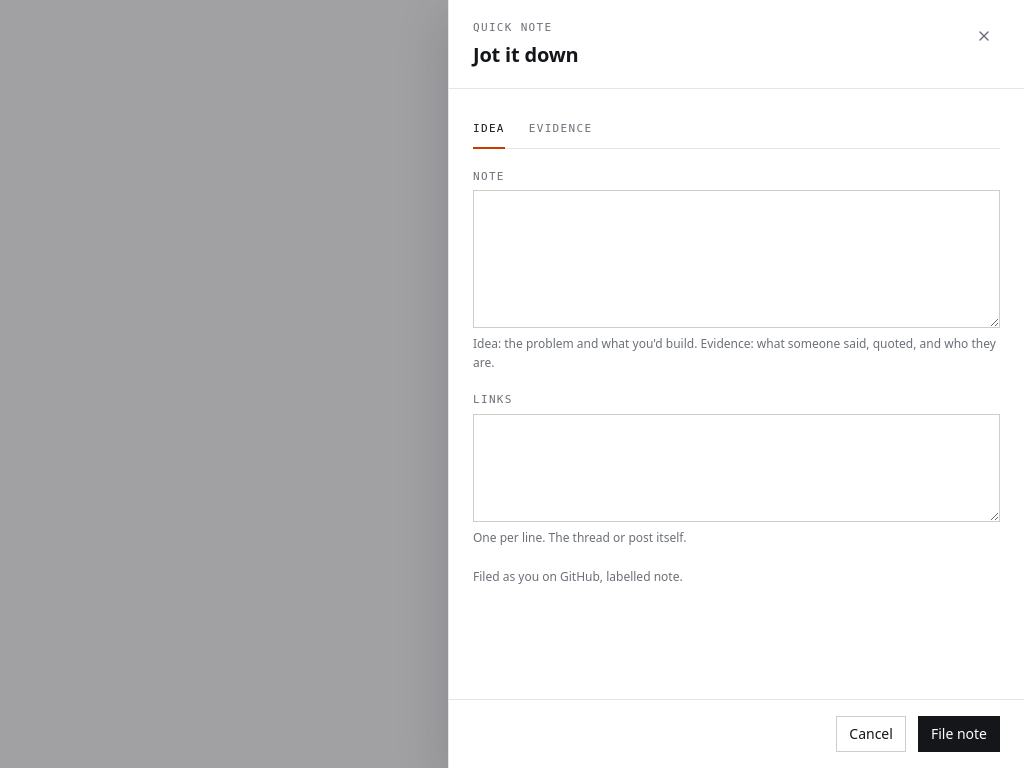
QuickNoteDrawer › CH11: files an idea note and links the issue
In the text box labelled "Note": (736, 259) x1=473 y1=190 x2=1000 y2=328, type "Bike shops keep paper cards"
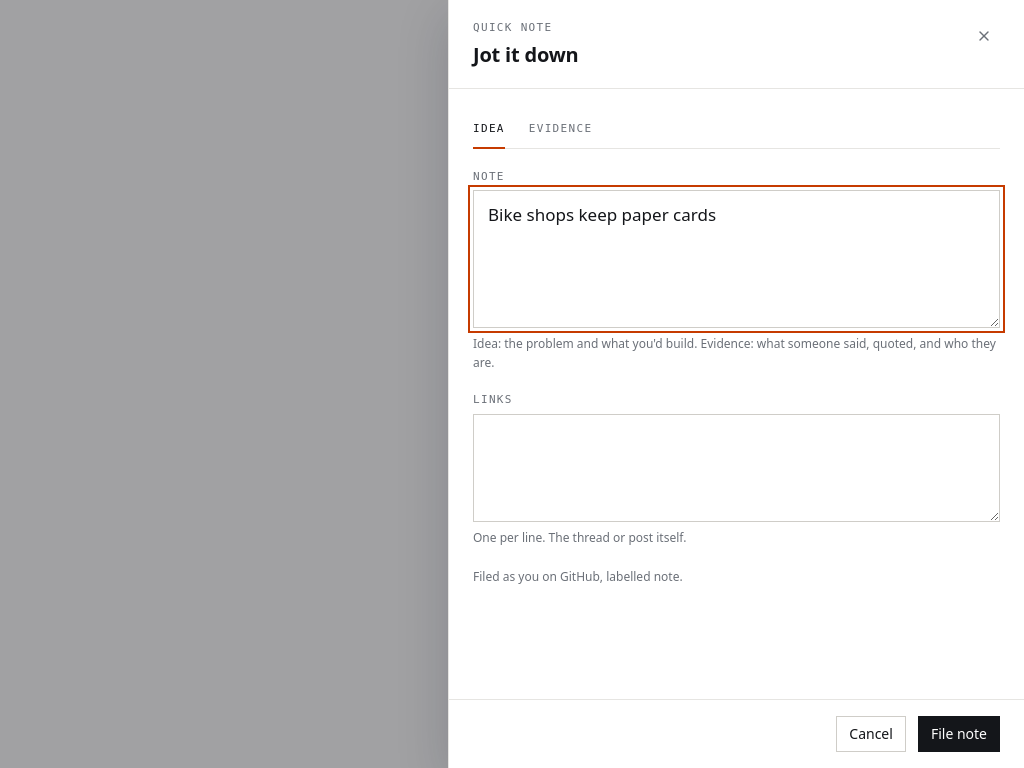
In the text box labelled "Links": (736, 468) x1=473 y1=414 x2=1000 y2=522, type "https://a.example"
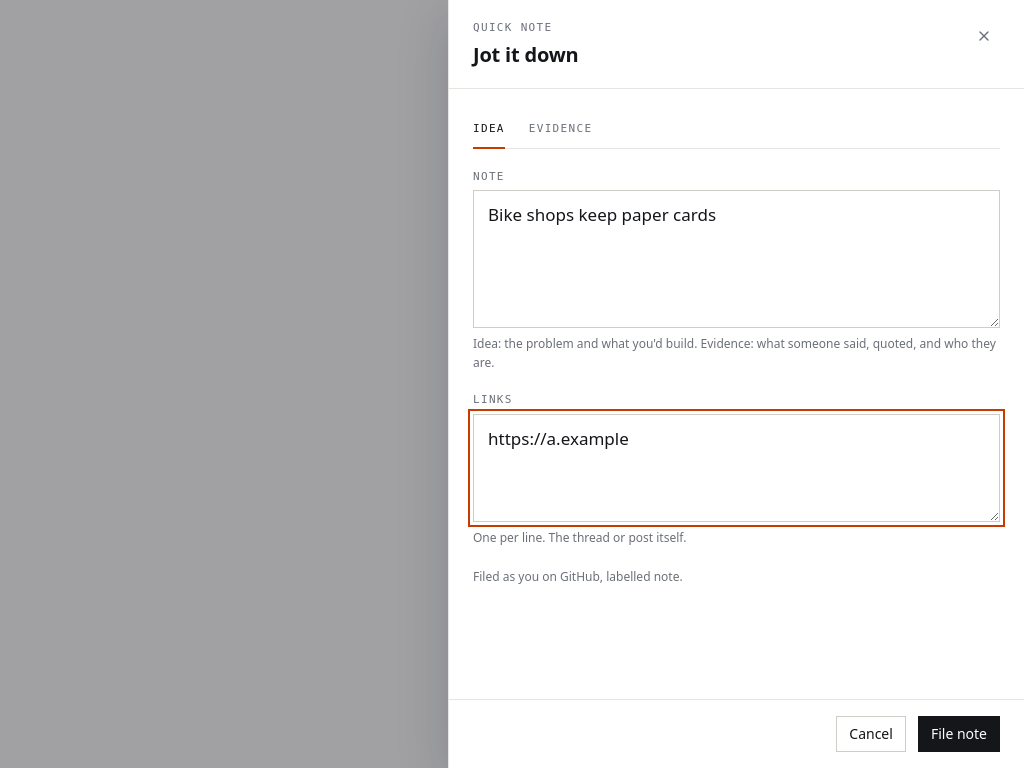
Click the button "File note": (959, 734) x1=918 y1=716 x2=1000 y2=752
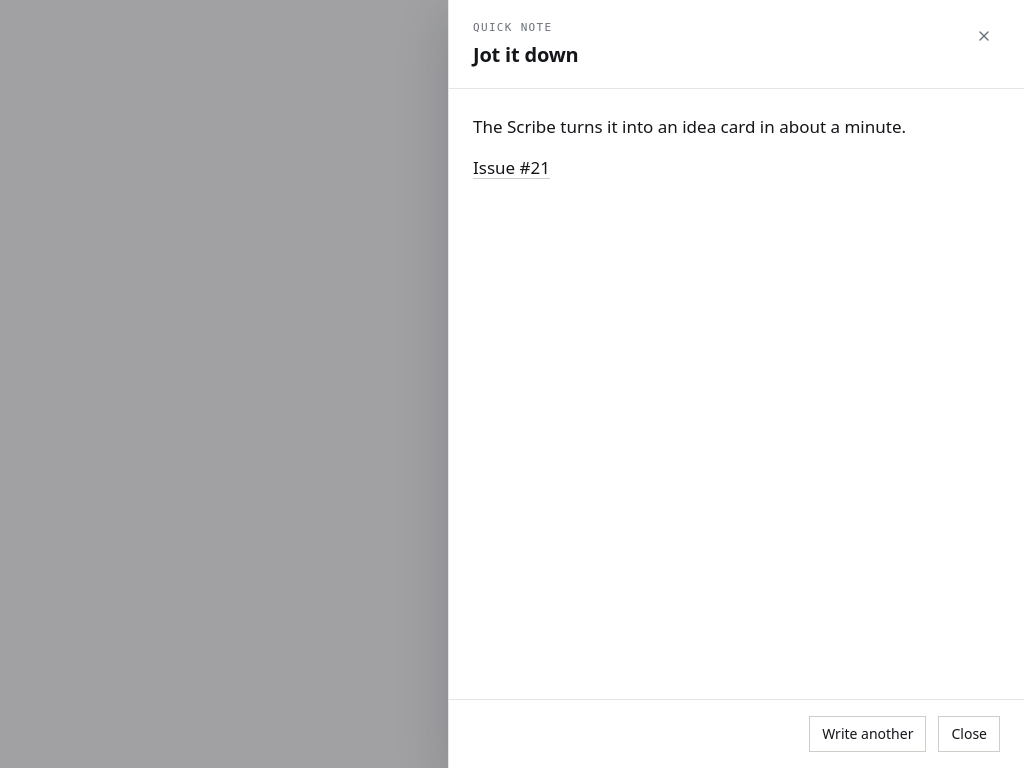
Result: the text "The Scribe turns it into an idea card in about a minute." is shown at x1=473 y1=115 x2=906 y2=138
